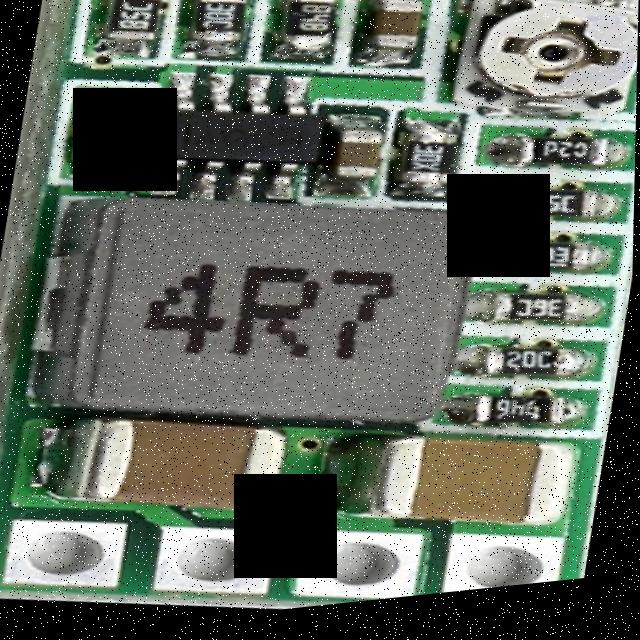IC: (152, 77, 334, 213)
capacitor 1V5: (36, 401, 297, 536), (356, 422, 582, 559), (362, 0, 429, 68), (332, 131, 390, 196)
inductor F1: (8, 157, 483, 476)
potentiometer POT1: (452, 0, 639, 146)
resistor IR1: (459, 395, 576, 455), (471, 344, 587, 402), (489, 186, 602, 244), (483, 290, 589, 347), (490, 240, 598, 295), (72, 105, 142, 185), (510, 137, 612, 191), (401, 133, 465, 202), (187, 0, 254, 57), (277, 0, 336, 60), (104, 0, 165, 49)
